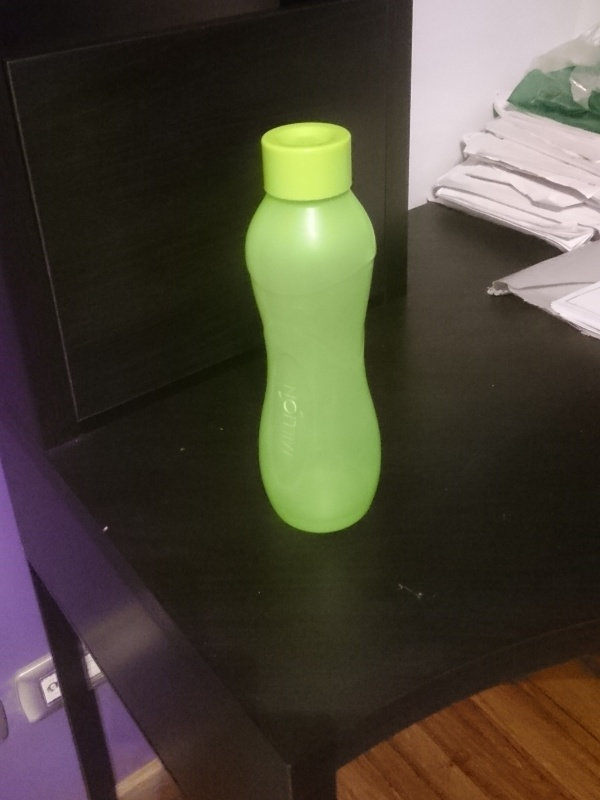my bottle: (243, 121, 379, 532)
